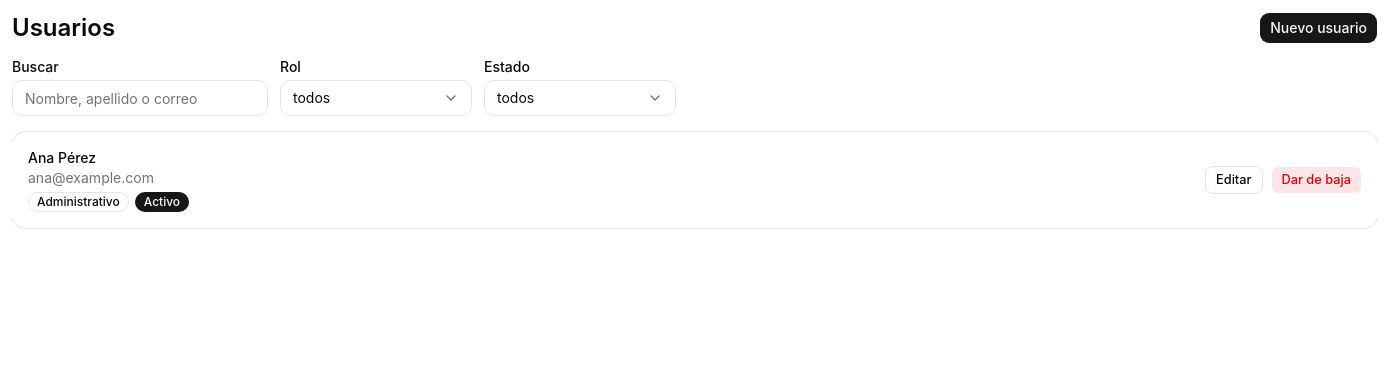
Test: UsersPage › shows the backend error when editing a user fails
Check: the text "Ana Pérez" is shown, box [28,149,96,166]
Click the button "Editar": [1234, 180] box [1205,166,1262,194]
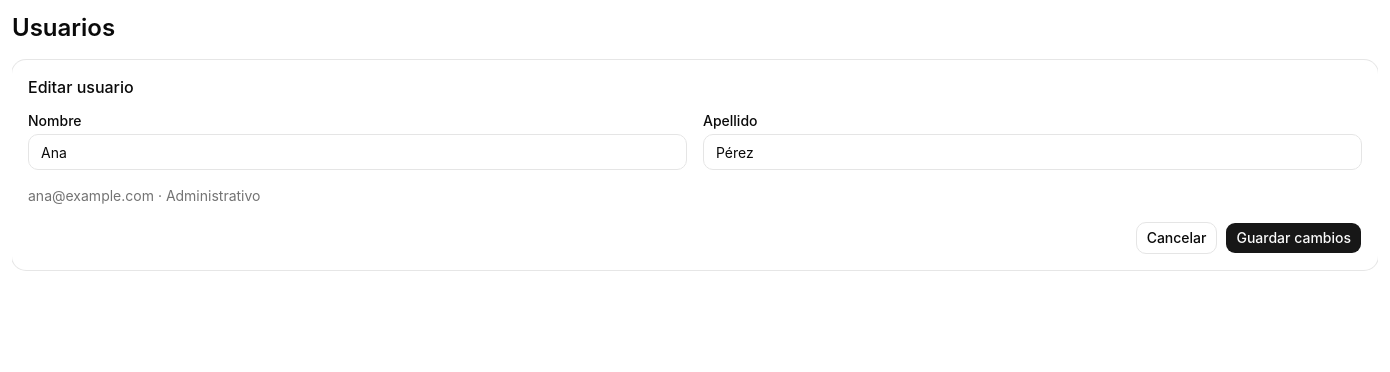
Click the button "Guardar cambios": [1294, 238] box [1226,222,1362,254]
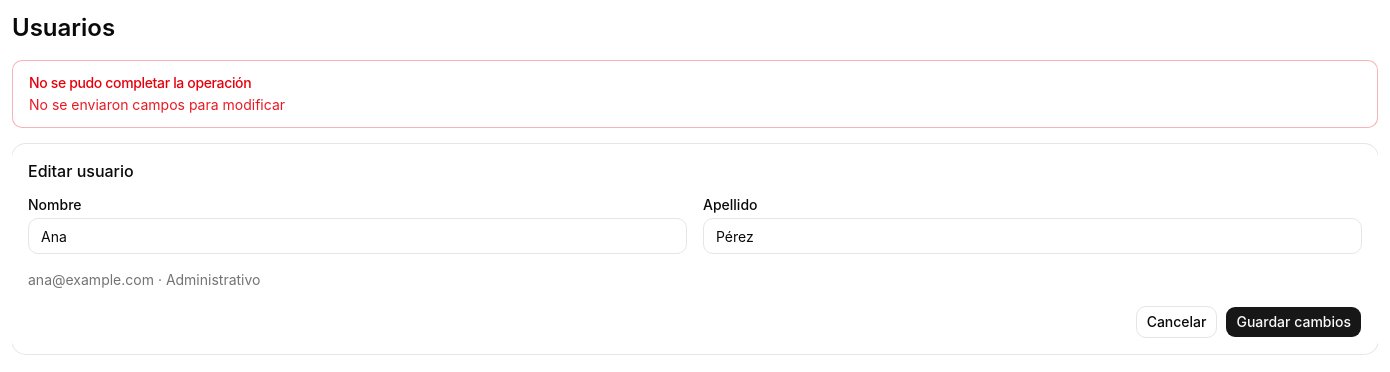
Check: the text "No se enviaron campos para modificar" is shown, box [29,96,285,113]
